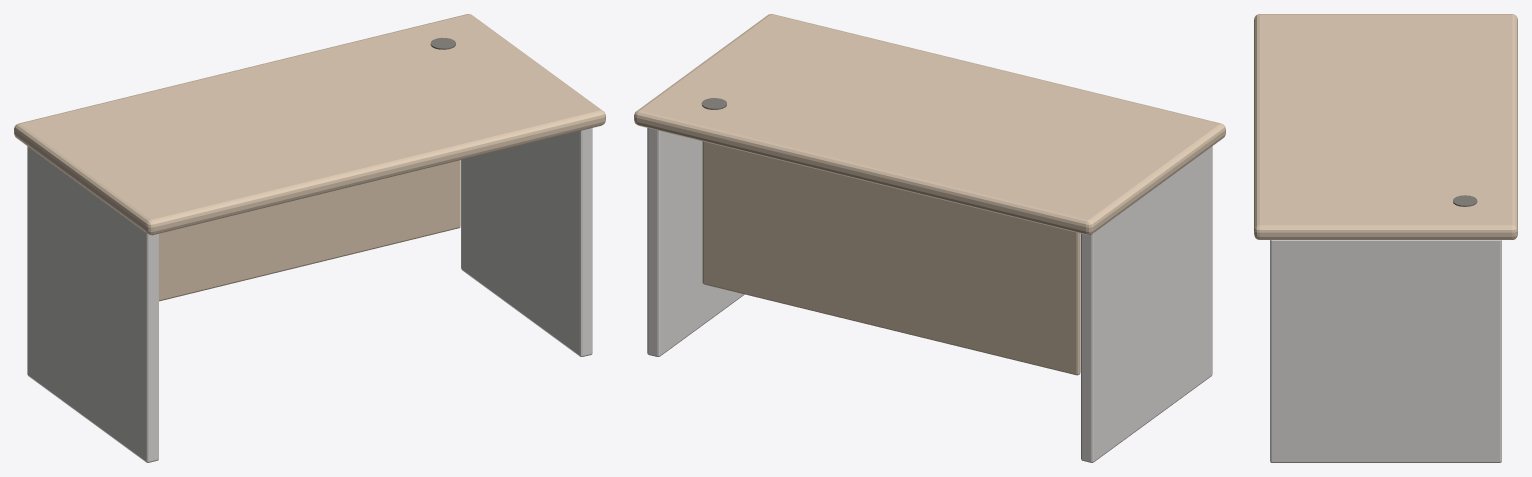
File: isometric_workstation_variations_guide_13.glb
The picture shows the model from 3 angles, left to right: view 1: azimuth 30°, elevation 25°; view 2: azimuth 150°, elevation 25°; view 3: azimuth 270°, elevation 25°; orthographic projection. The views are drawn at different scales.
Visible parts, largest first — view 1: Cube; view 2: Cube; view 3: Cube.
Boxes of the visible parts, left/top/right/bottom form: Cube: left=14, top=14, right=605, bottom=462; Cube: left=634, top=14, right=1225, bottom=462; Cube: left=1254, top=14, right=1517, bottom=462.
Bounding box in the file's own units: 1.45 × 0.754 × 0.75.
